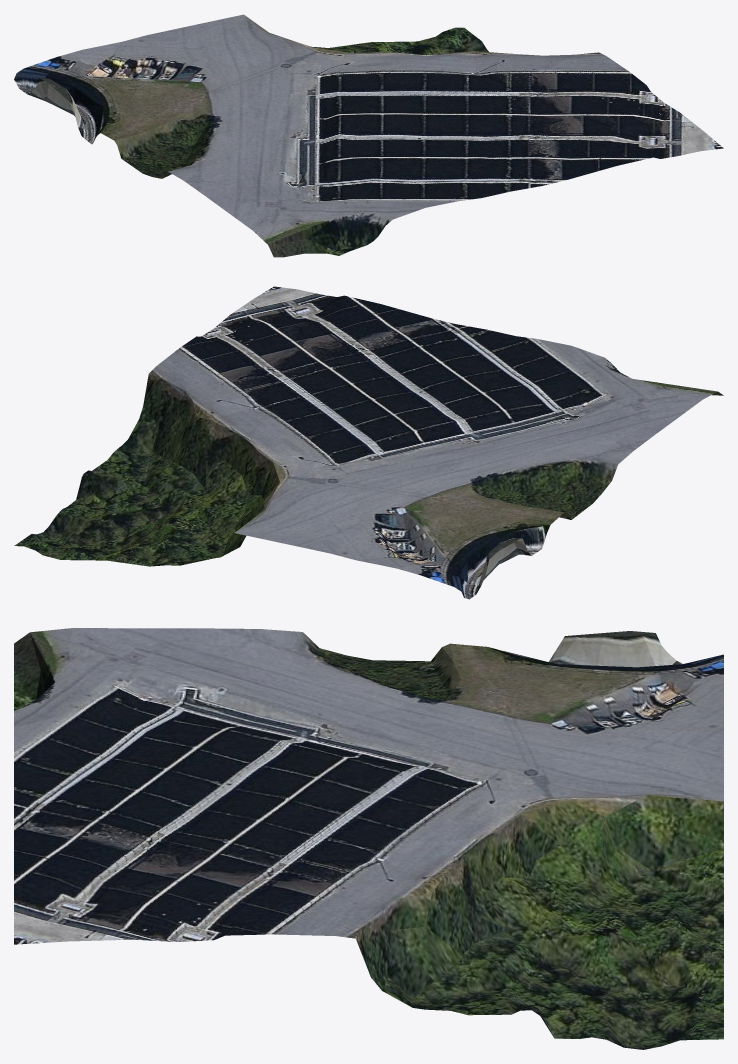
File: map_15_8181_13776.dae
The picture shows the model from 3 angles, top to bottom: view 1: azimuth 30°, elevation 25°; view 2: azimuth 150°, elevation 25°; view 3: azimuth 270°, elevation 25°; orthographic projection. The views are drawn at different scales.
Visible parts, largest first — view 1: Ter0; view 2: Ter0; view 3: Ter0.
Part boxes in pixels (left/top/right/bottom): Ter0: left=14, top=14, right=723, bottom=257; Ter0: left=14, top=286, right=723, bottom=599; Ter0: left=14, top=628, right=723, bottom=1049.
Bounding box in the file's own units: 63.87 × 63.88 × 12.74.
Materials: 2 (2 with a texture image).
